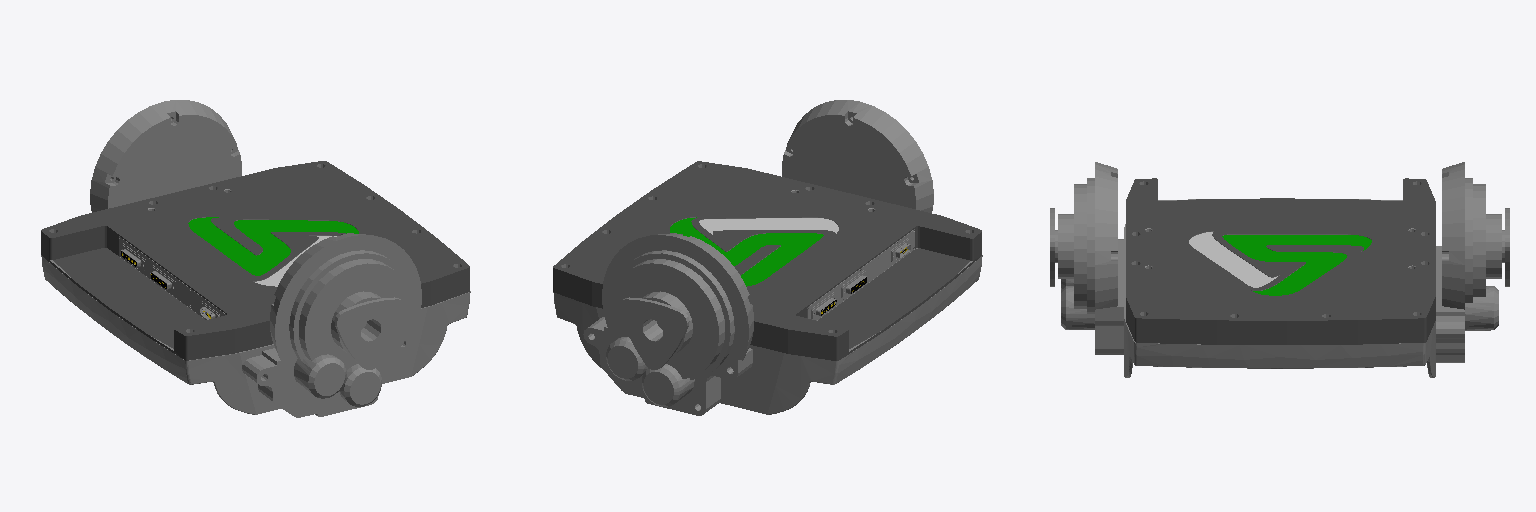
Rendered from 110_powerbase.obj.
The picture shows the model from 3 angles: view 1: azimuth 30°, elevation 25°; view 2: azimuth 150°, elevation 25°; view 3: azimuth 270°, elevation 25°; orthographic projection.
Visible parts, largest first — view 1: powerbase_110_powerbase 110.001; view 2: powerbase_110_powerbase 110.001; view 3: powerbase_110_powerbase 110.001.
Boxes of the visible parts, x1=… form: powerbase_110_powerbase 110.001: x1=41, y1=100, x2=470, y2=417; powerbase_110_powerbase 110.001: x1=553, y1=100, x2=982, y2=415; powerbase_110_powerbase 110.001: x1=1050, y1=162, x2=1509, y2=377.
Size of the model in its own units: 0.3956 by 0.2215 by 0.5323.